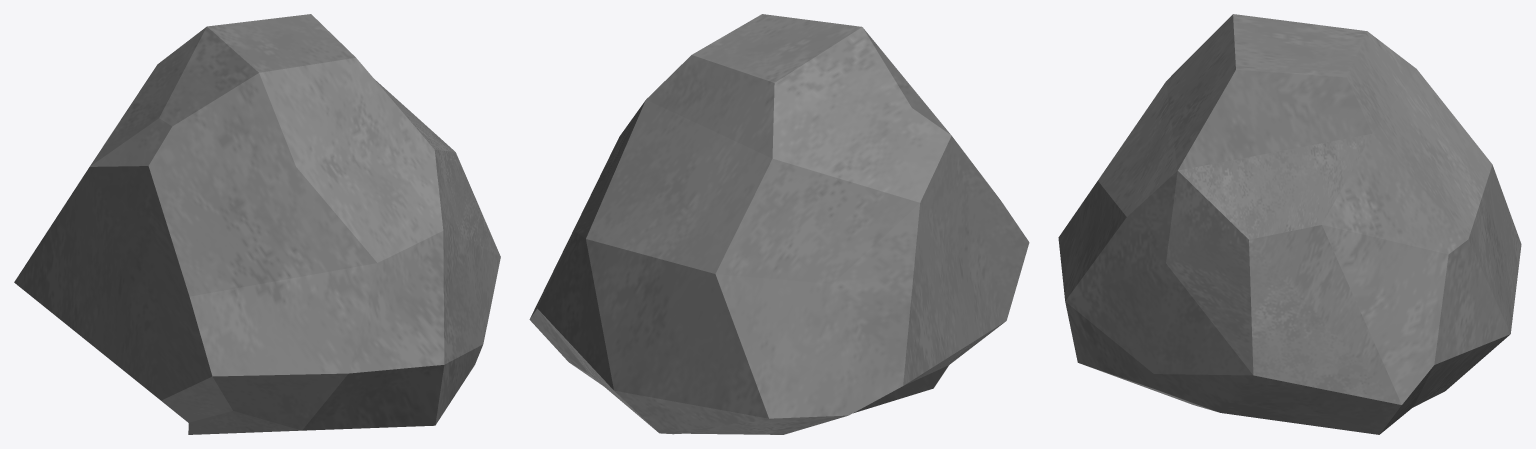
Rendered from Rock_1.fbx.
3 renders of one model, left to right at view 1: azimuth 30°, elevation 25°; view 2: azimuth 150°, elevation 25°; view 3: azimuth 270°, elevation 25°, orthographic. The views are drawn at different scales.
Visible parts, largest first — view 1: Cube.079; view 2: Cube.079; view 3: Cube.079.
Part boxes in pixels (x1,y1,x2,y2): Cube.079: [14, 14, 500, 434]; Cube.079: [529, 14, 1029, 434]; Cube.079: [1058, 14, 1521, 434].
Bounding box in the file's own units: 123 × 108 × 130.
